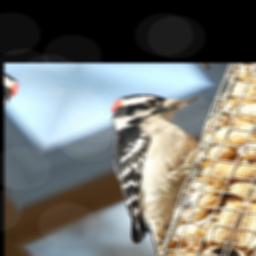Woodpecker: (55, 85, 228, 256)
